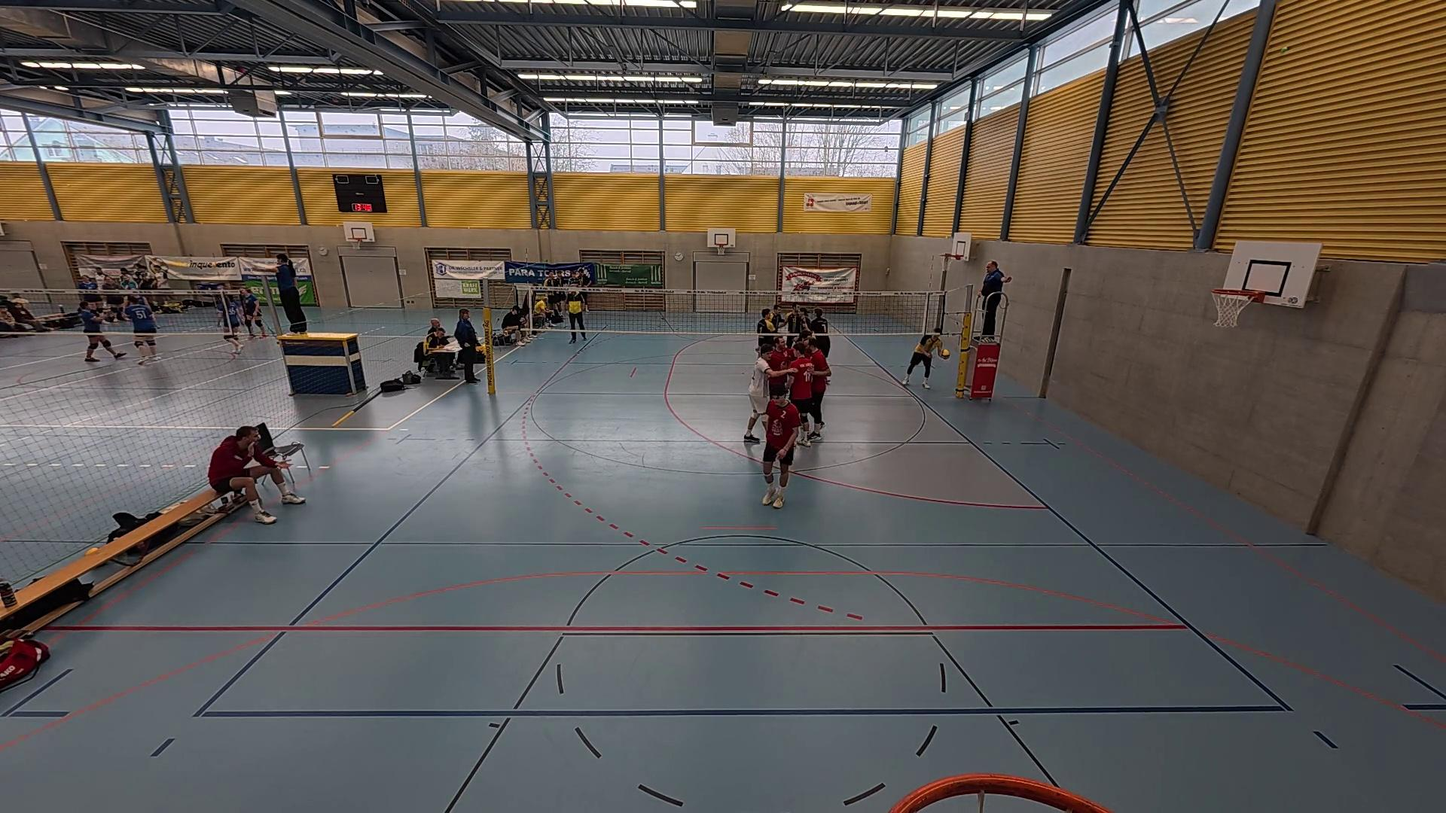Player: (743, 336, 795, 443), (761, 382, 804, 508), (791, 337, 830, 445), (901, 321, 944, 389), (753, 306, 779, 371), (808, 309, 832, 359)
ball: (935, 343, 950, 358)
